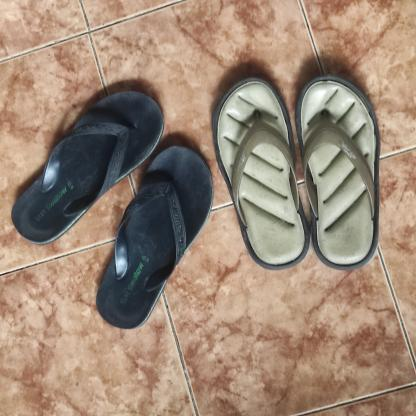Black Swallow B: (11, 88, 164, 246), (94, 145, 214, 329)
Brown Flip Flop: (211, 73, 312, 271), (294, 72, 382, 272)
